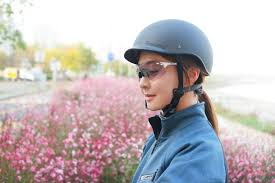with helmet: (123, 18, 216, 111)
